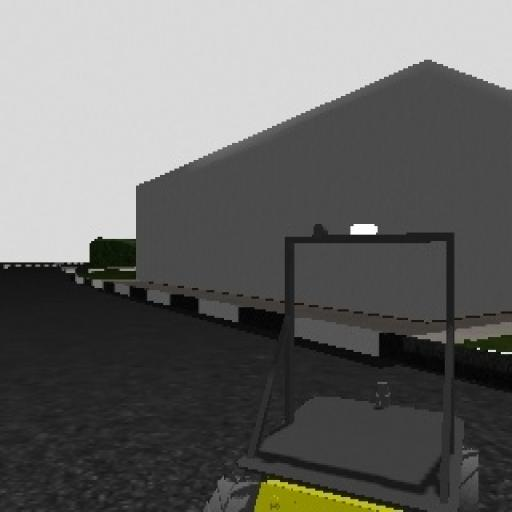huskya200: (212, 218, 497, 512)
